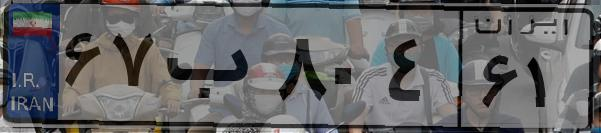0: (330, 28, 385, 110)
1: (525, 38, 570, 115)
4: (385, 28, 445, 110)
6: (57, 26, 110, 100), (475, 38, 525, 113)
7: (110, 28, 158, 98)
8: (270, 28, 330, 110)
ب: (158, 20, 270, 120)
